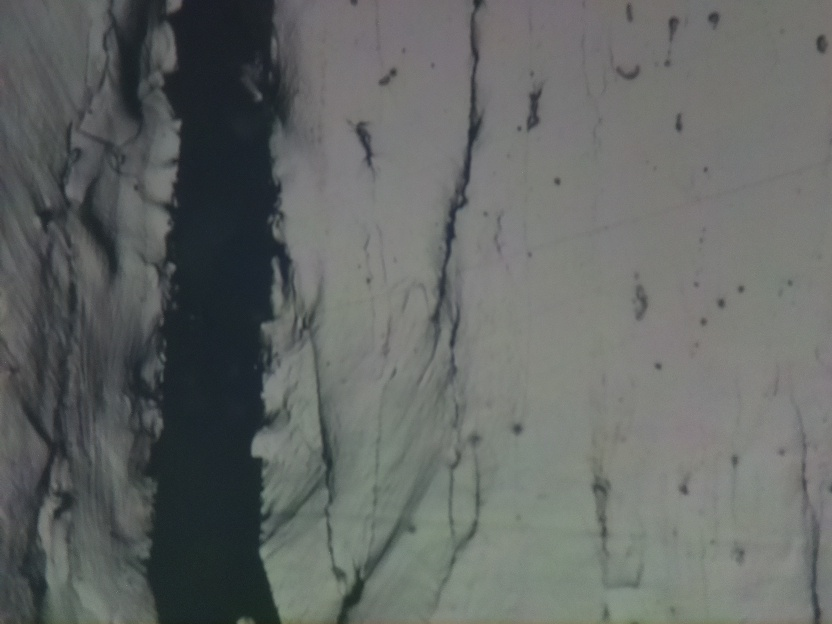crack: (153, 1, 281, 624), (427, 0, 482, 333), (786, 394, 827, 624)
